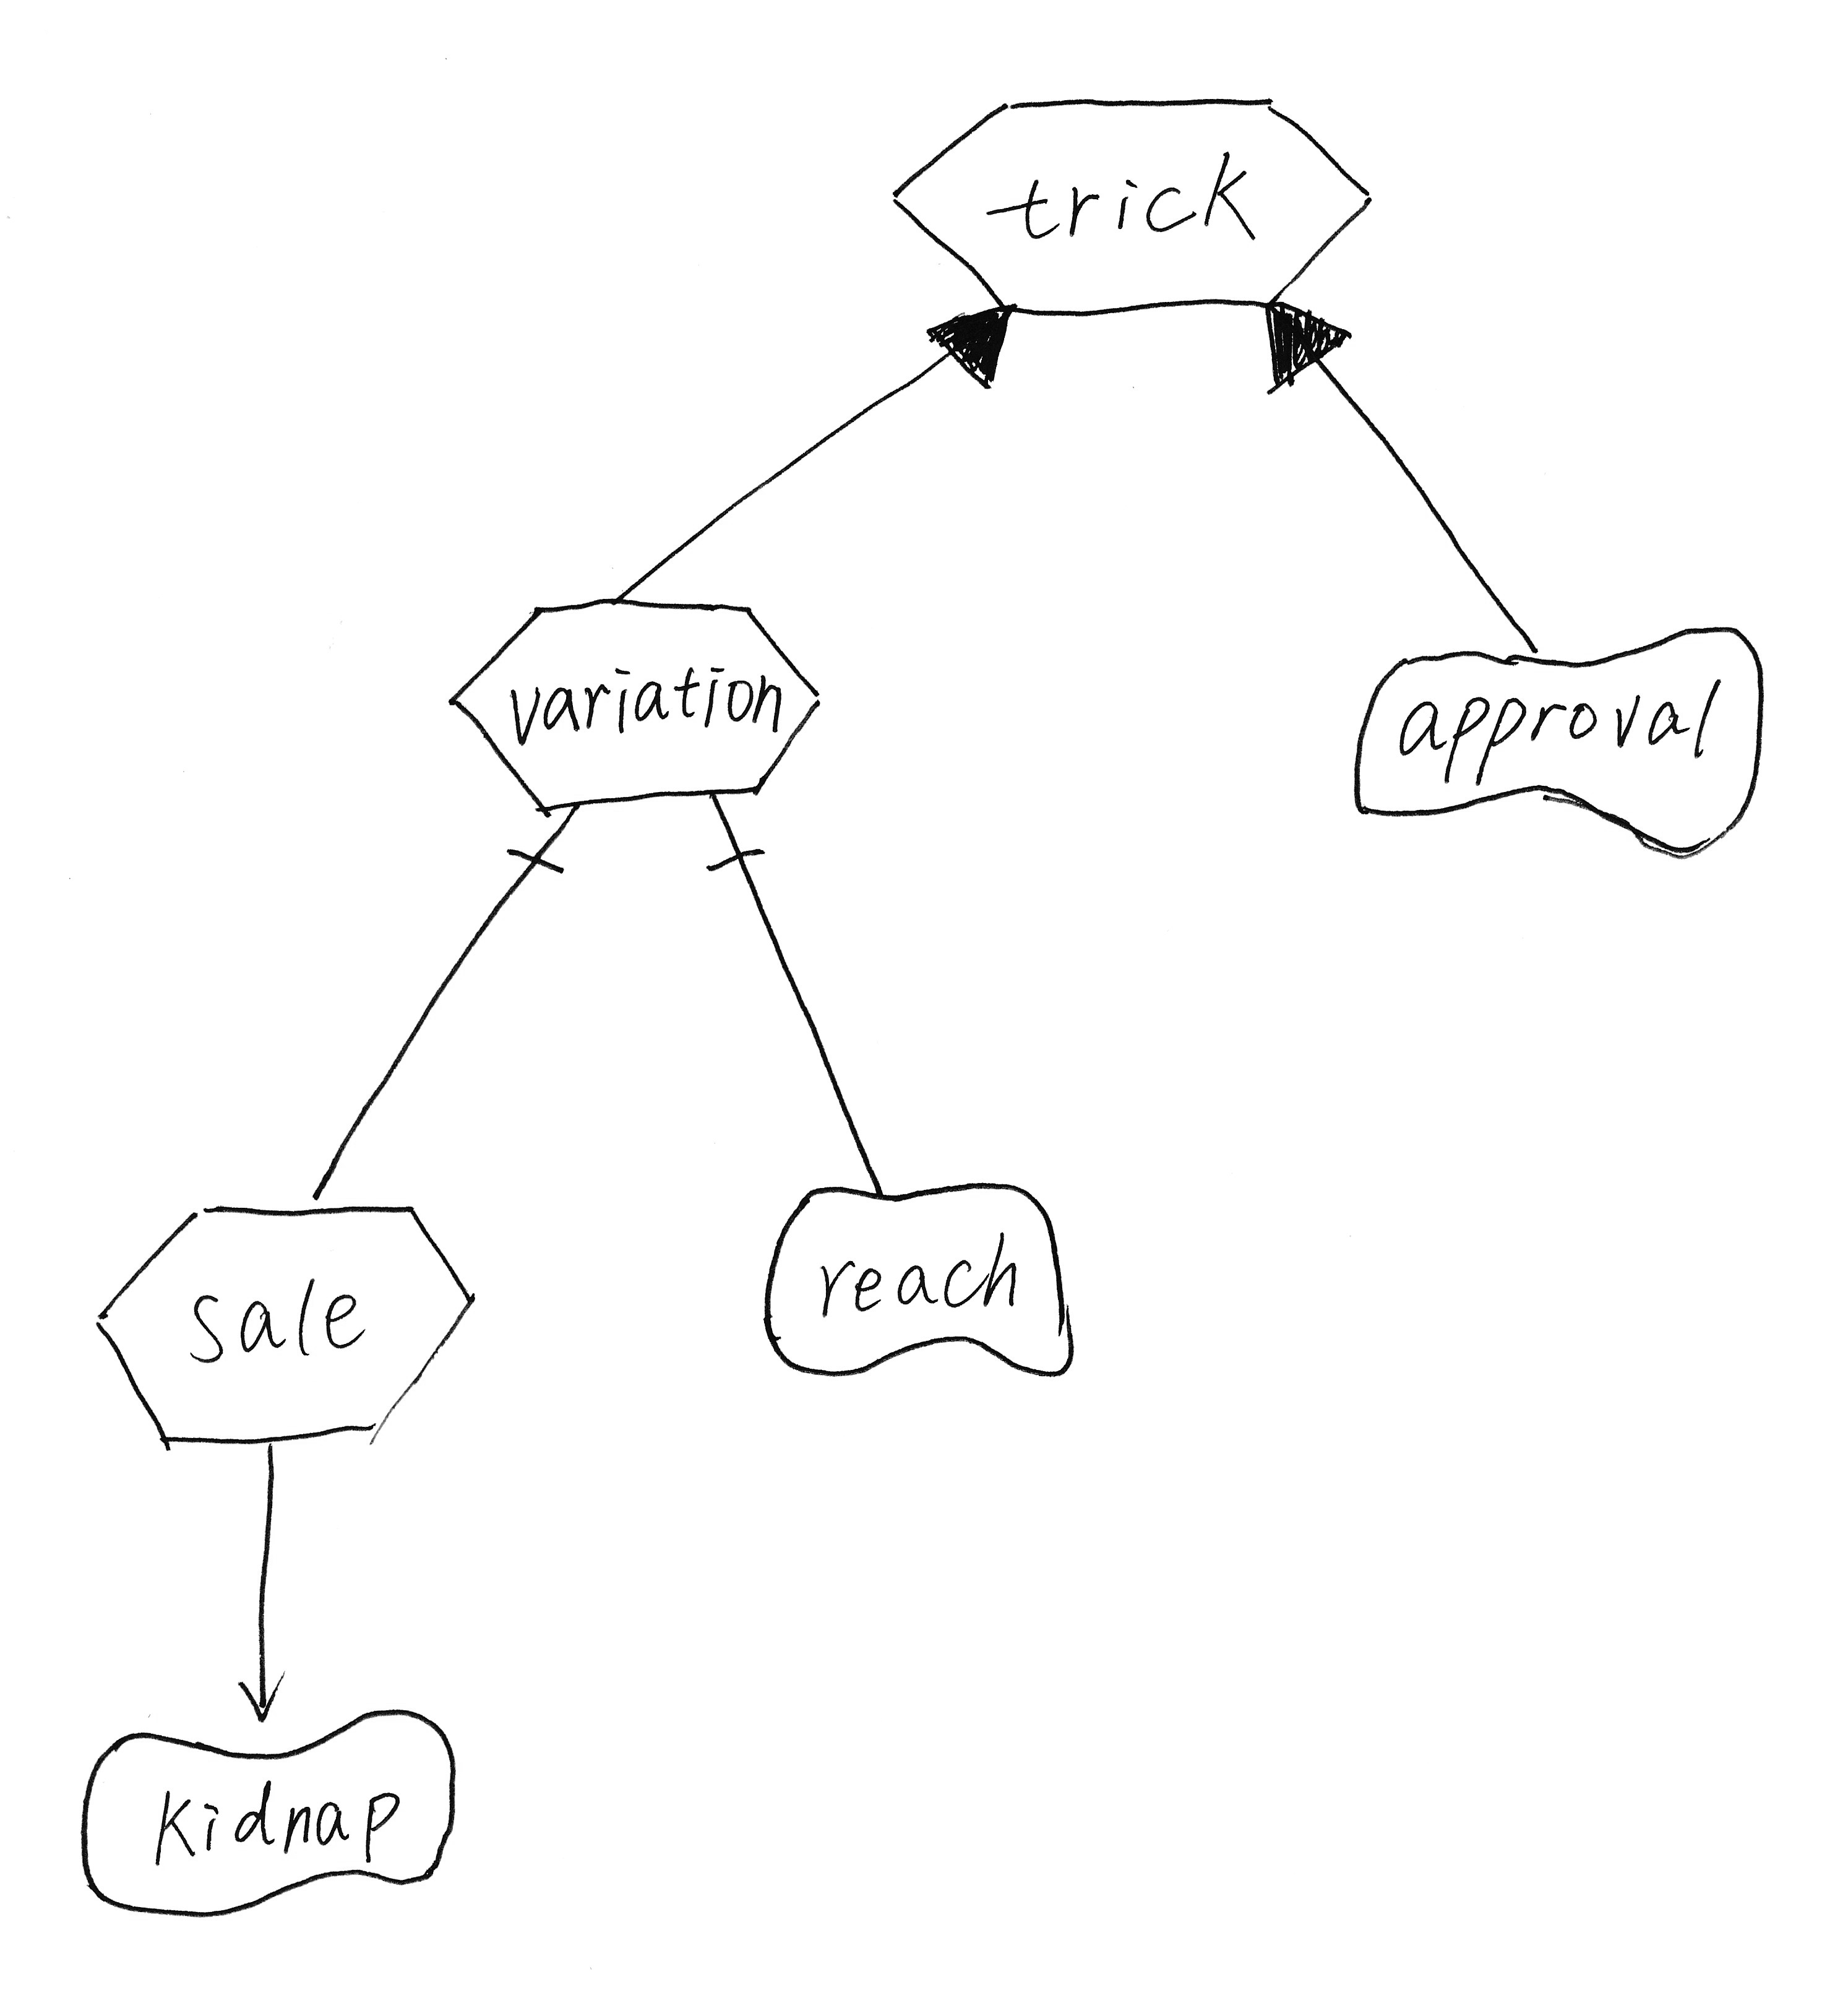and: (479, 792, 601, 894), (679, 781, 792, 891)
arrow: (221, 1651, 299, 1735)
or: (1237, 285, 1367, 406), (912, 287, 1028, 401)
quality: (1323, 604, 1789, 880), (56, 1686, 479, 1934), (743, 1155, 1106, 1407)
task: (868, 71, 1395, 339), (73, 1181, 492, 1471), (424, 578, 853, 834)
